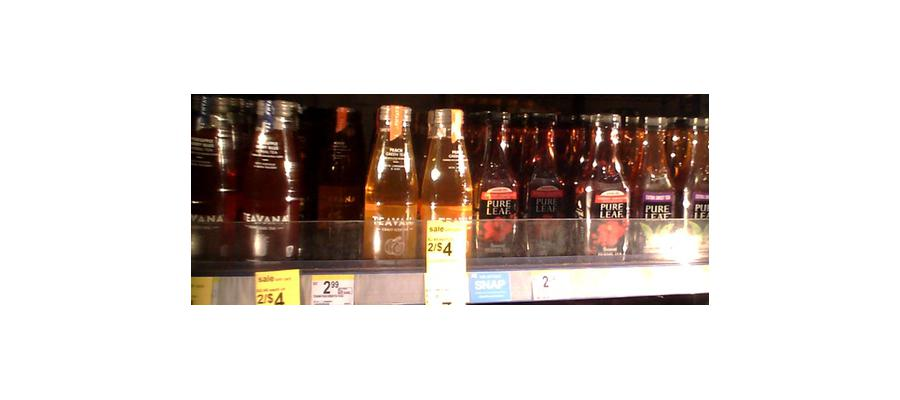bottle: (239, 88, 299, 264), (363, 103, 418, 265), (308, 101, 362, 263), (417, 108, 468, 275), (472, 110, 522, 260), (580, 109, 630, 259), (524, 109, 574, 254), (197, 90, 237, 255), (635, 104, 677, 250), (673, 102, 712, 235)
